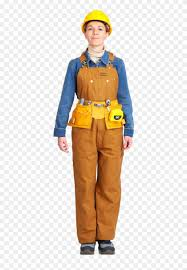Person_wearing_helmet: (79, 9, 111, 33)
